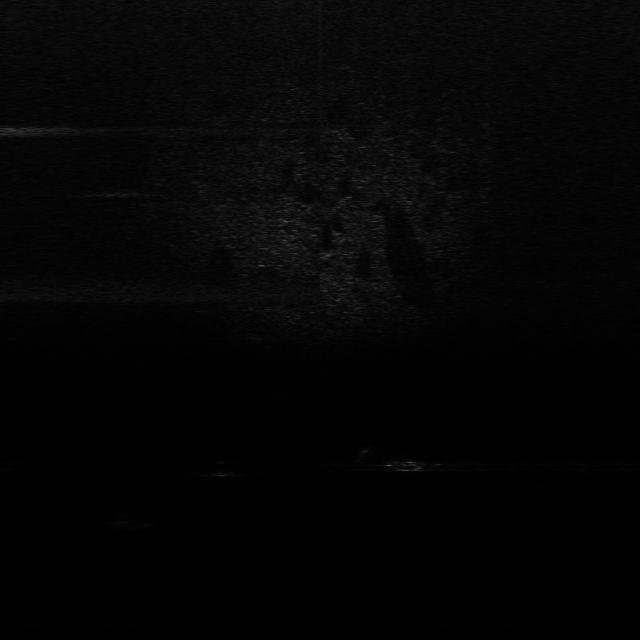ball: (213, 457, 237, 480)
circle cage: (104, 505, 162, 538)
human body: (338, 441, 448, 481)
